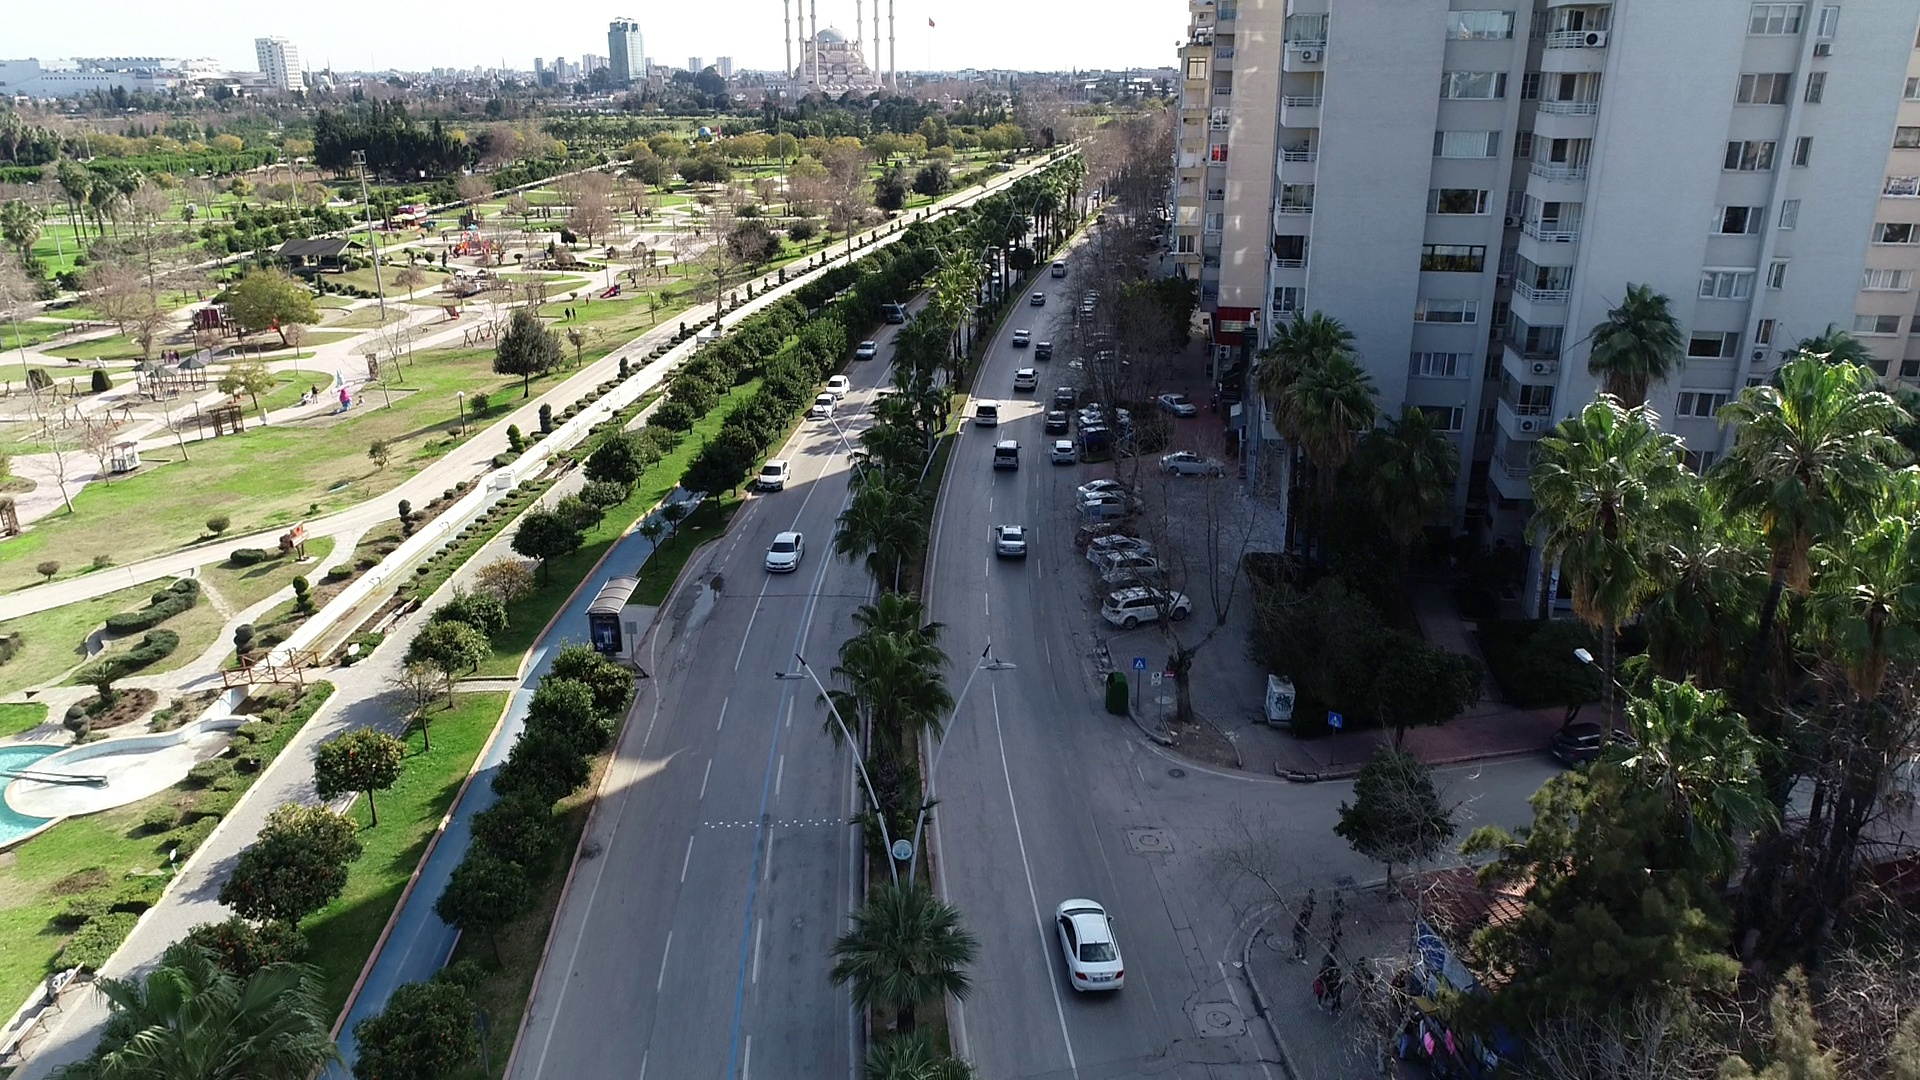car: (1037, 889, 1149, 1001), (1544, 714, 1637, 770), (1097, 587, 1212, 628), (762, 523, 812, 576), (1098, 551, 1179, 582), (1156, 448, 1228, 480), (1087, 532, 1160, 562), (990, 518, 1033, 565), (752, 457, 796, 498), (1071, 474, 1134, 500), (989, 435, 1026, 475), (1158, 387, 1199, 420), (1076, 426, 1125, 451), (1048, 435, 1076, 472), (973, 397, 1002, 429), (821, 370, 853, 399), (1041, 406, 1074, 434), (810, 390, 839, 420), (1013, 366, 1046, 392), (854, 339, 880, 361), (885, 300, 907, 326), (1009, 325, 1033, 347), (1032, 338, 1055, 359), (1049, 258, 1071, 279), (1029, 290, 1048, 307)
person: (1292, 907, 1313, 967), (1395, 1006, 1414, 1061), (1299, 886, 1323, 918), (310, 382, 322, 406), (561, 304, 573, 323), (158, 347, 168, 366), (173, 347, 182, 366), (570, 303, 578, 323)
